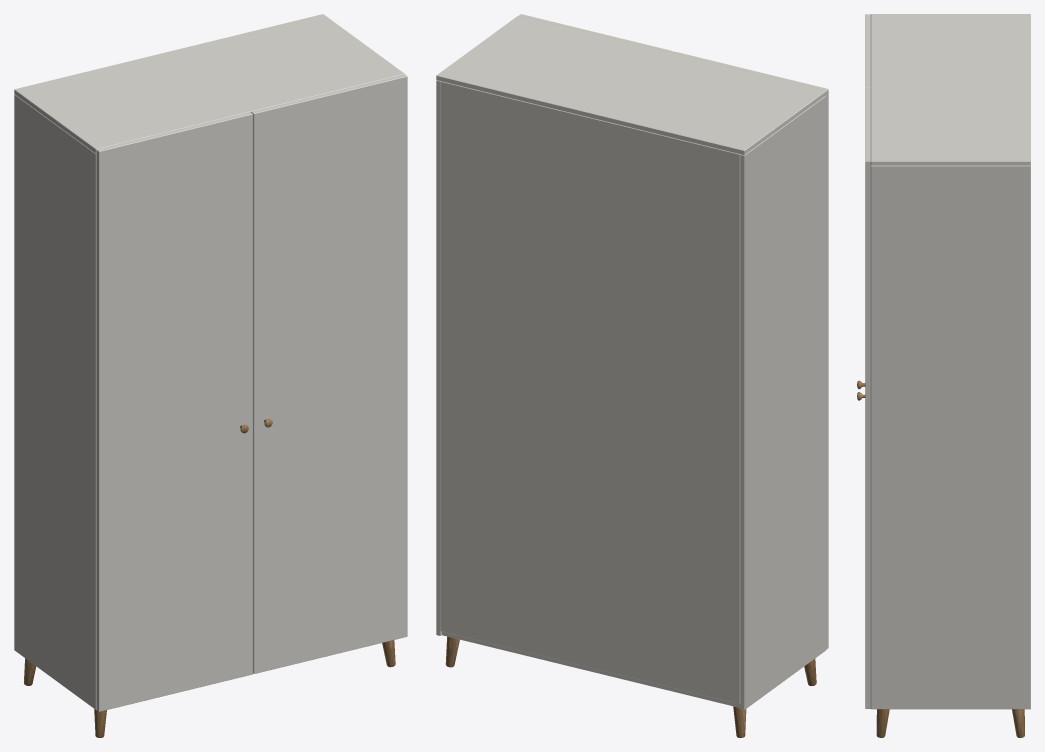
The model's file is armario_nordico_2p_120.glb.
The picture shows the model from 3 angles, left to right: view 1: azimuth 30°, elevation 25°; view 2: azimuth 150°, elevation 25°; view 3: azimuth 270°, elevation 25°; orthographic projection. The views are drawn at different scales.
Visible parts, largest first — view 1: armario_nordico_2p_120; view 2: armario_nordico_2p_120; view 3: armario_nordico_2p_120.
Part boxes in pixels (x1,y1,x2,y2): armario_nordico_2p_120: [14, 14, 407, 737]; armario_nordico_2p_120: [436, 14, 828, 737]; armario_nordico_2p_120: [857, 14, 1030, 737].
Bounding box in the file's own units: 1.2 × 2.2 × 0.5979.
Materials: 2 (1 with a texture image).
